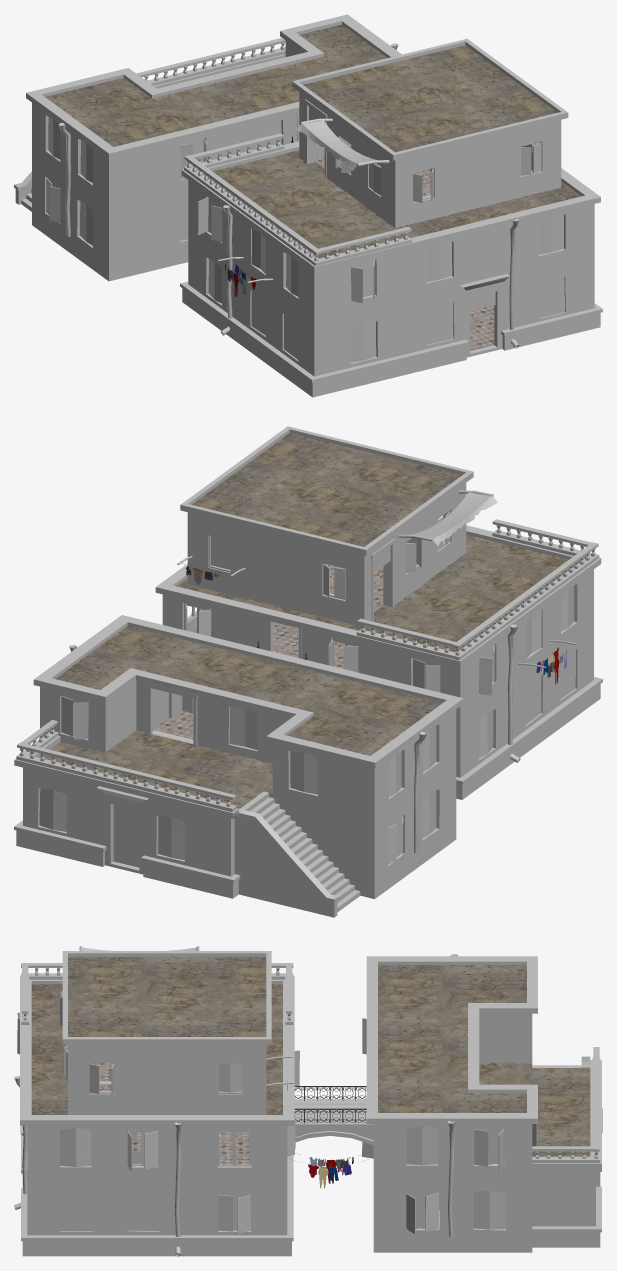
File: Euro_v4_1.FBX
3 views of the same model, one above another, from view 1: azimuth 30°, elevation 25°; view 2: azimuth 150°, elevation 25°; view 3: azimuth 270°, elevation 25° (orthographic). The views are drawn at different scales.
Visible parts, largest first — view 1: Euro_v4, Euro_v4_roof_floor, Euro_v4_tile_floor; view 2: Euro_v4, Euro_v4_roof_floor, Euro_v4_tile_floor, Euro_v3_wet_clothes; view 3: Euro_v4, Euro_v4_roof_floor, Euro_v4_tile_floor, Euro_v4_bridge_fence, Euro_v3_wet_clothes.
Boxes of the visible parts, <box> form: Euro_v4: <box>14,14,602,397</box>; Euro_v4_roof_floor: <box>45,24,581,258</box>; Euro_v4_tile_floor: <box>315,156,494,350</box>; Euro_v4: <box>14,426,602,917</box>; Euro_v4_roof_floor: <box>39,433,578,808</box>; Euro_v4_tile_floor: <box>155,542,409,739</box>; Euro_v3_wet_clothes: <box>182,563,567,684</box>; Euro_v4: <box>14,946,602,1256</box>; Euro_v4_roof_floor: <box>31,957,590,1156</box>; Euro_v4_tile_floor: <box>90,1063,250,1164</box>; Euro_v4_bridge_fence: <box>294,1086,366,1123</box>; Euro_v3_wet_clothes: <box>287,1081,371,1188</box>.
Size of the model in its own units: 23.35 by 13.37 by 33.92.
